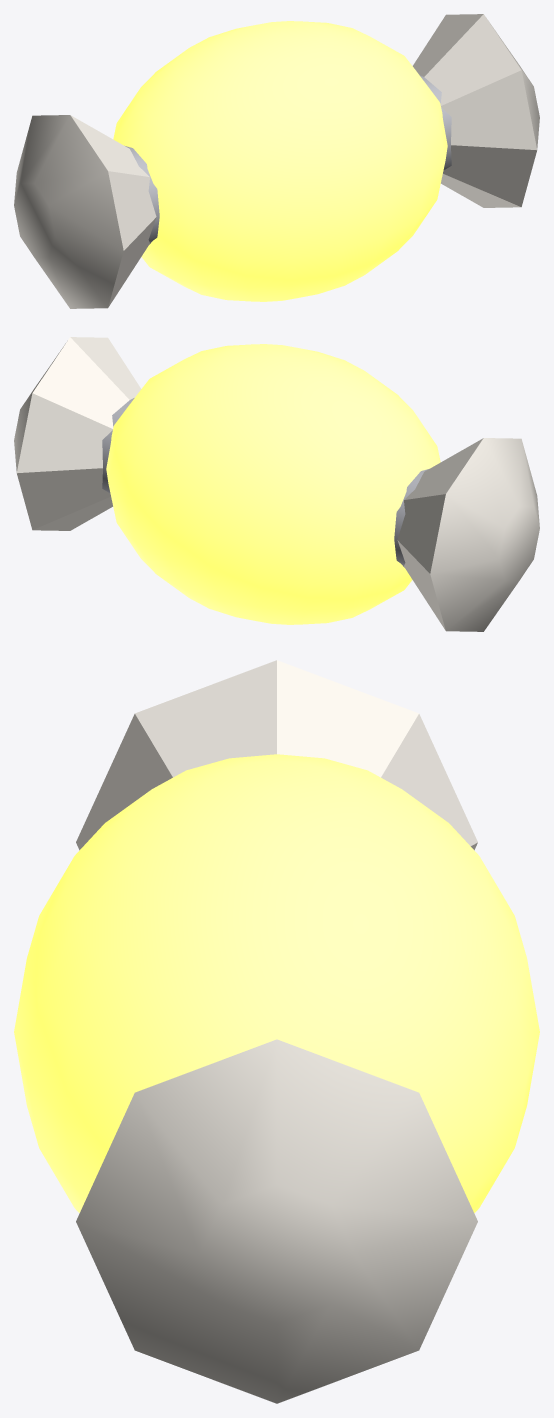
The model's file is ITEM_CandyCell_Yellow.fbx.
3 renders of one model, top to bottom at view 1: azimuth 30°, elevation 25°; view 2: azimuth 150°, elevation 25°; view 3: azimuth 270°, elevation 25°, orthographic. The views are drawn at different scales.
Parts seen in each view (by area): view 1: ITEM_CandyCell_Yellow; view 2: ITEM_CandyCell_Yellow; view 3: ITEM_CandyCell_Yellow.
Boxes of the visible parts, x1,y1,x2,y2 form: ITEM_CandyCell_Yellow: (14, 14, 539, 308); ITEM_CandyCell_Yellow: (14, 337, 539, 631); ITEM_CandyCell_Yellow: (14, 660, 539, 1403).
Size of the model in its own units: 0.68 by 0.34 by 0.34.
